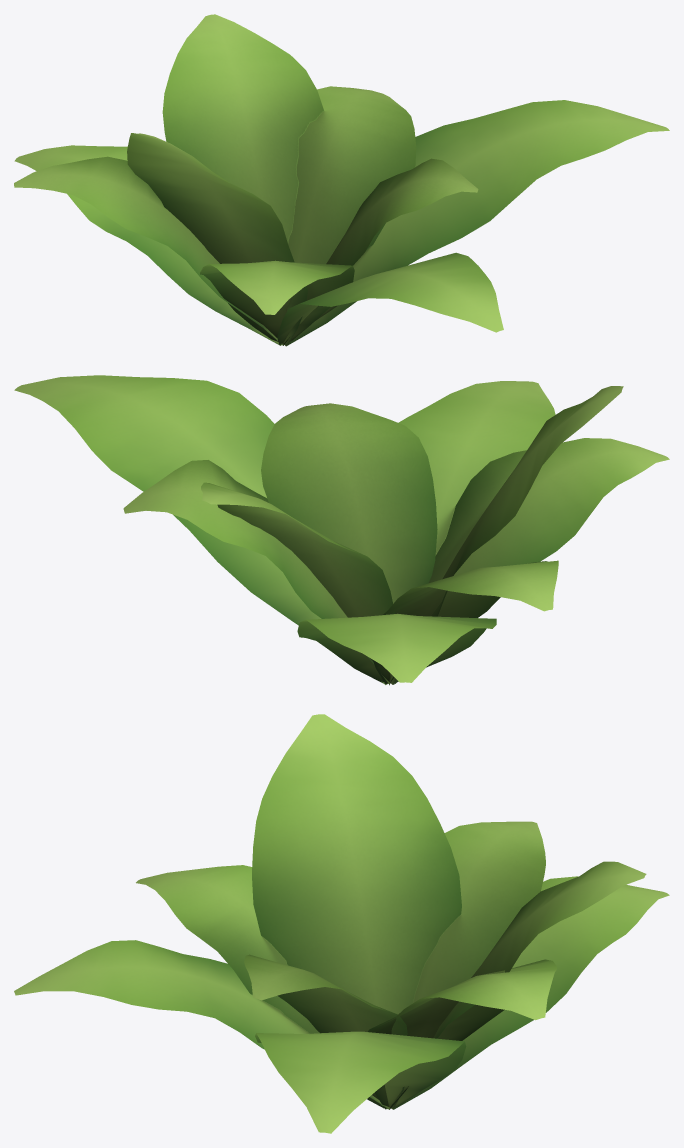
File: plant_broadleaf.glb
The picture shows the model from 3 angles, top to bottom: view 1: azimuth 30°, elevation 25°; view 2: azimuth 150°, elevation 25°; view 3: azimuth 270°, elevation 25°; orthographic projection. The views are drawn at different scales.
Visible parts, largest first — view 1: plant_broadleaf; view 2: plant_broadleaf; view 3: plant_broadleaf.
Boxes of the visible parts, x1,y1,x2,y2 form: plant_broadleaf: [14, 14, 669, 346]; plant_broadleaf: [14, 375, 669, 685]; plant_broadleaf: [14, 714, 669, 1133].
Size of the model in its own units: 0.911 by 0.4277 by 0.841.
1 material, 1 textured.
